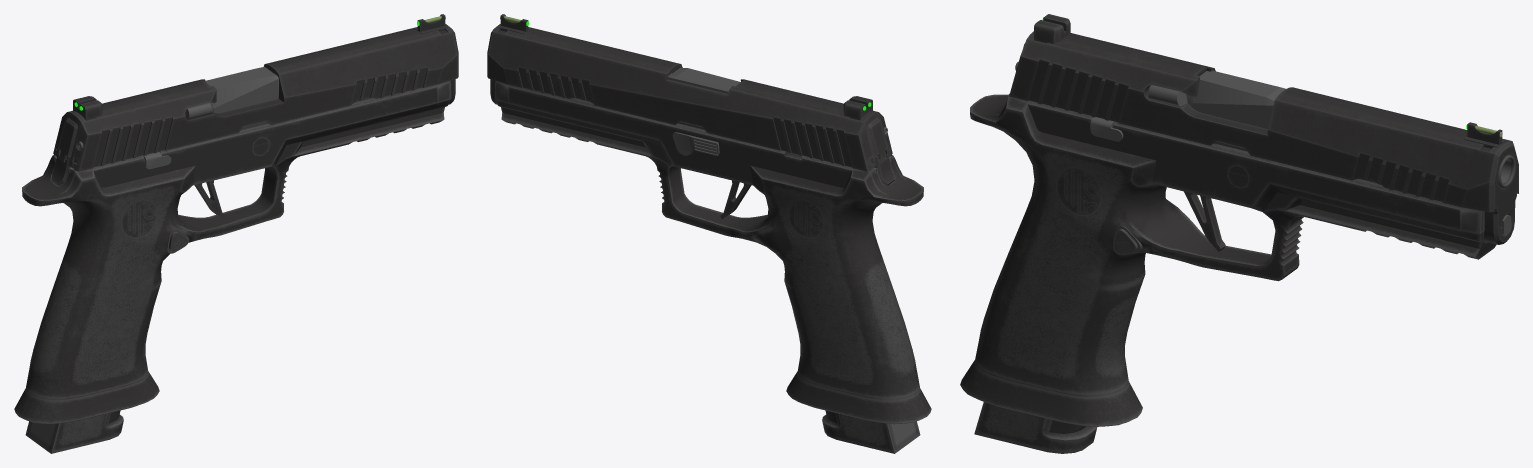
3 renders of one model, left to right at view 1: azimuth 30°, elevation 25°; view 2: azimuth 150°, elevation 25°; view 3: azimuth 330°, elevation 25°, orthographic. The views are drawn at different scales.
Visible parts, largest first — view 1: p320.001_6, p320slide.001_5, magazine.001_8; view 2: p320.001_6, p320slide.001_5, magazine.001_8; view 3: p320.001_6, p320slide.001_5, magazine.001_8.
Part boxes in pixels (x1,y1,x2,y2): p320.001_6: (14,67,451,424); p320slide.001_5: (53,14,458,171); magazine.001_8: (25,410,123,453); p320.001_6: (494,67,931,424); p320slide.001_5: (487,14,892,171); magazine.001_8: (822,410,920,453); p320.001_6: (960,70,1515,426); p320slide.001_5: (1009,14,1518,244); magazine.001_8: (974,402,1097,453).
Size of the model in its own units: 0.1886 by 0.1383 by 0.0281.
Materials: 2 (1 with a texture image).
